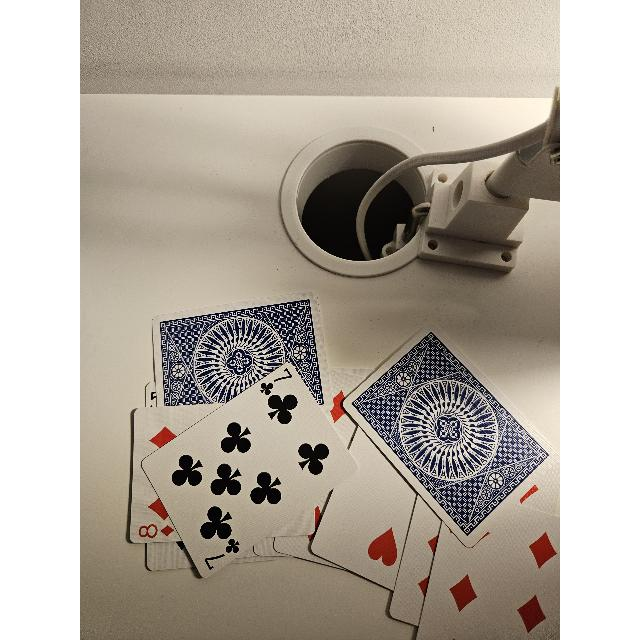7C: (199, 538, 243, 576), (255, 364, 295, 398)
8D: (138, 518, 178, 542)
